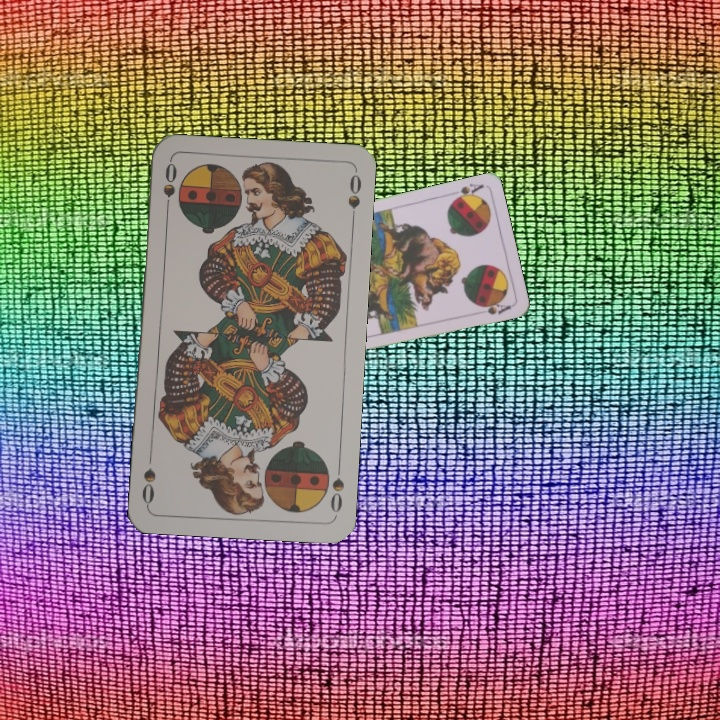SA: (448, 179, 486, 204)
SO: (159, 158, 180, 218), (326, 459, 346, 518)
